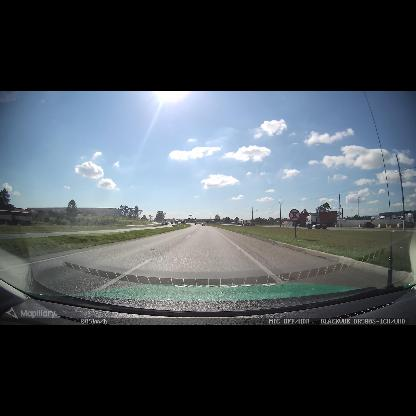R-6c: (289, 209, 300, 221)
